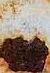Corrosion: (1, 34, 50, 73)
